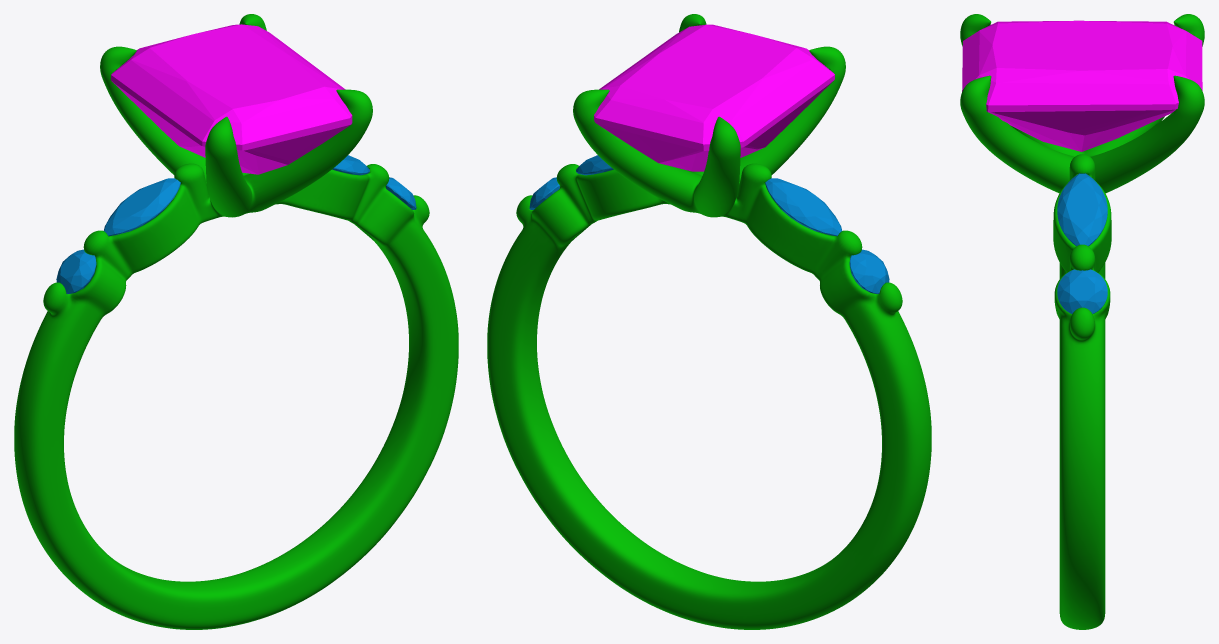
The model's file is BE1D2422_RA_200ct_RENDER.glb.
The picture shows the model from 3 angles, left to right: view 1: azimuth 30°, elevation 25°; view 2: azimuth 150°, elevation 25°; view 3: azimuth 270°, elevation 25°; orthographic projection.
Visible parts, largest first — view 1: Metal 01, CS_Diamond_Radiant, Diamond_Marquise_Gem_HD.001, Diamond_Round_Gem_HD.001; view 2: Metal 01, CS_Diamond_Radiant, Diamond_Marquise_Gem_HD.001, Diamond_Round_Gem_HD.001; view 3: Metal 01, CS_Diamond_Radiant, Diamond_Marquise_Gem_HD, Diamond_Round_Gem_HD.
Boxes of the visible parts, x1,y1,x2,y2 form: Metal 01: (14,14,458,629); CS_Diamond_Radiant: (111,24,352,174); Diamond_Marquise_Gem_HD.001: (103,178,180,236); Diamond_Round_Gem_HD.001: (56,249,96,293); Metal 01: (487,14,931,629); CS_Diamond_Radiant: (594,24,834,171); Diamond_Marquise_Gem_HD.001: (765,178,842,236); Diamond_Round_Gem_HD.001: (849,249,889,293); Metal 01: (960,14,1204,629); CS_Diamond_Radiant: (962,20,1202,151); Diamond_Marquise_Gem_HD: (1057,173,1107,246); Diamond_Round_Gem_HD: (1057,269,1107,313).
Size of the model in its own units: 20.1 by 24.46 by 9.66.
